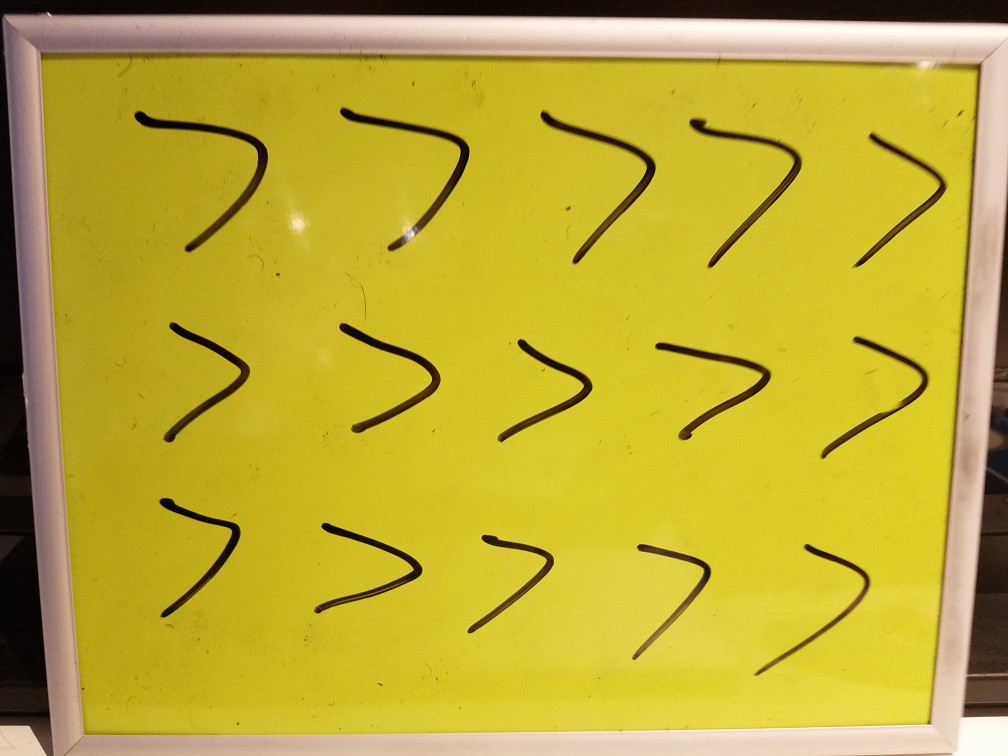>: (120, 86, 285, 253), (332, 85, 480, 259), (676, 89, 810, 268), (752, 515, 886, 687), (636, 312, 775, 463), (532, 98, 659, 259), (824, 307, 936, 488), (121, 480, 256, 620), (839, 112, 952, 269), (307, 494, 426, 633), (334, 316, 440, 452), (156, 304, 252, 454), (620, 512, 717, 658), (500, 317, 600, 456), (459, 513, 556, 641)
